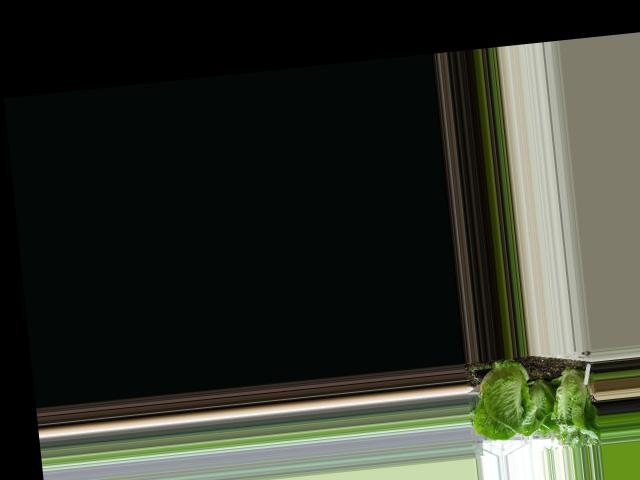lettuce: (544, 357, 595, 442)
